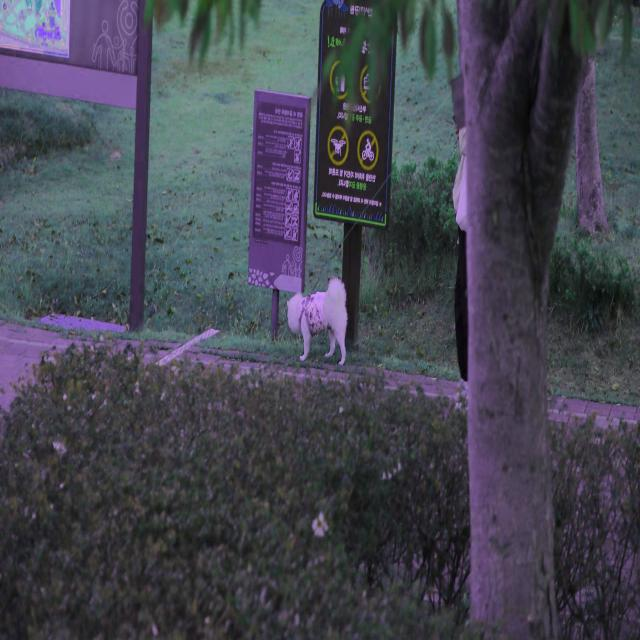Leashed_Dog: (286, 83, 468, 366)
